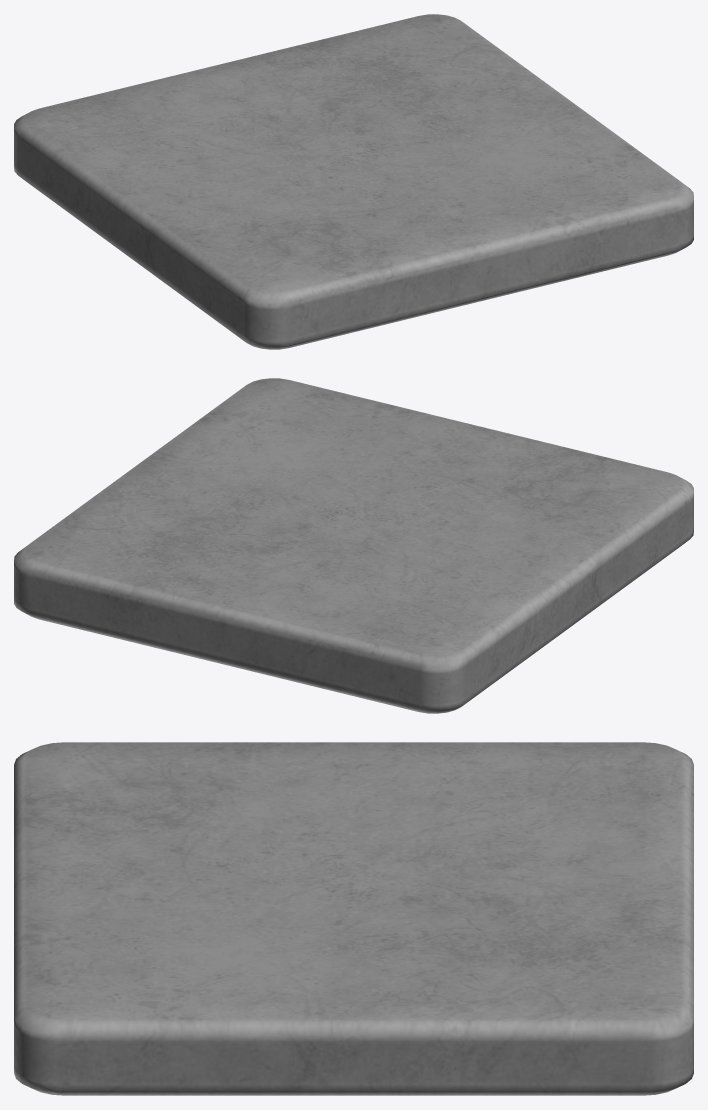
The model's file is detail.fbx.
3 views of the same model, one above another, from view 1: azimuth 30°, elevation 25°; view 2: azimuth 150°, elevation 25°; view 3: azimuth 270°, elevation 25° (orthographic). The views are drawn at different scales.
Visible parts, largest first — view 1: detail2; view 2: detail2; view 3: detail2.
Part boxes in pixels (x1,y1,x2,y2): detail2: [14, 14, 693, 349]; detail2: [14, 378, 693, 713]; detail2: [14, 742, 693, 1095].
Size of the model in its own units: 16.48 by 1.99 by 16.48.
